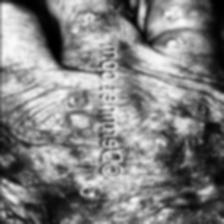Potentially Malignant Skin Tumors: (193, 117, 224, 142), (66, 110, 94, 132), (80, 179, 99, 203)
